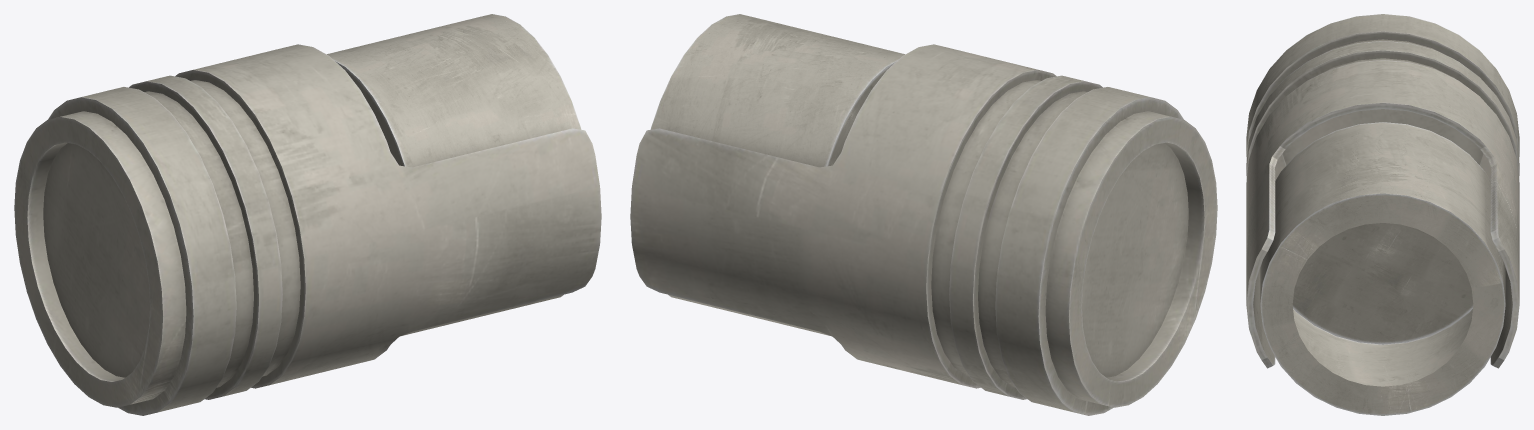
Rendered from pommel_4_c_d.glb.
3 renders of one model, left to right at view 1: azimuth 30°, elevation 25°; view 2: azimuth 150°, elevation 25°; view 3: azimuth 270°, elevation 25°, orthographic. The views are drawn at different scales.
Parts seen in each view (by area): view 1: pommel_4_c_d_lod0; view 2: pommel_4_c_d_lod0; view 3: pommel_4_c_d_lod0.
Part boxes in pixels (x1=…): pommel_4_c_d_lod0: x1=14, y1=14, x2=601, y2=415; pommel_4_c_d_lod0: x1=630, y1=14, x2=1217, y2=415; pommel_4_c_d_lod0: x1=1246, y1=14, x2=1519, y2=415.
Size of what is drawn, in the model's own units: 0.0492 by 0.0322 by 0.0322.
1 material, 1 textured.
